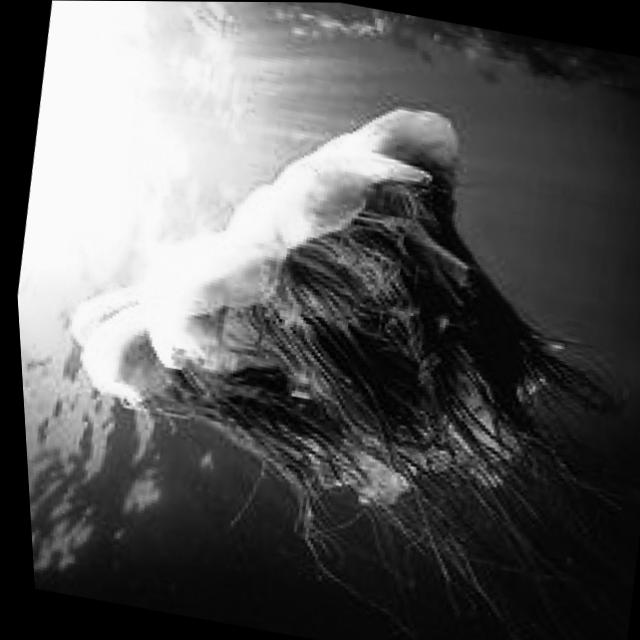Box-jellyfish: (2, 43, 640, 640)
